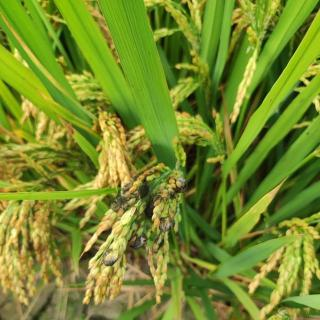Gosong-Palsu: (110, 185, 150, 211), (167, 175, 189, 197), (128, 231, 148, 249), (102, 250, 120, 268), (158, 215, 176, 232)
